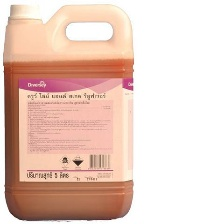cleaning_solution: (0, 1, 136, 224)
